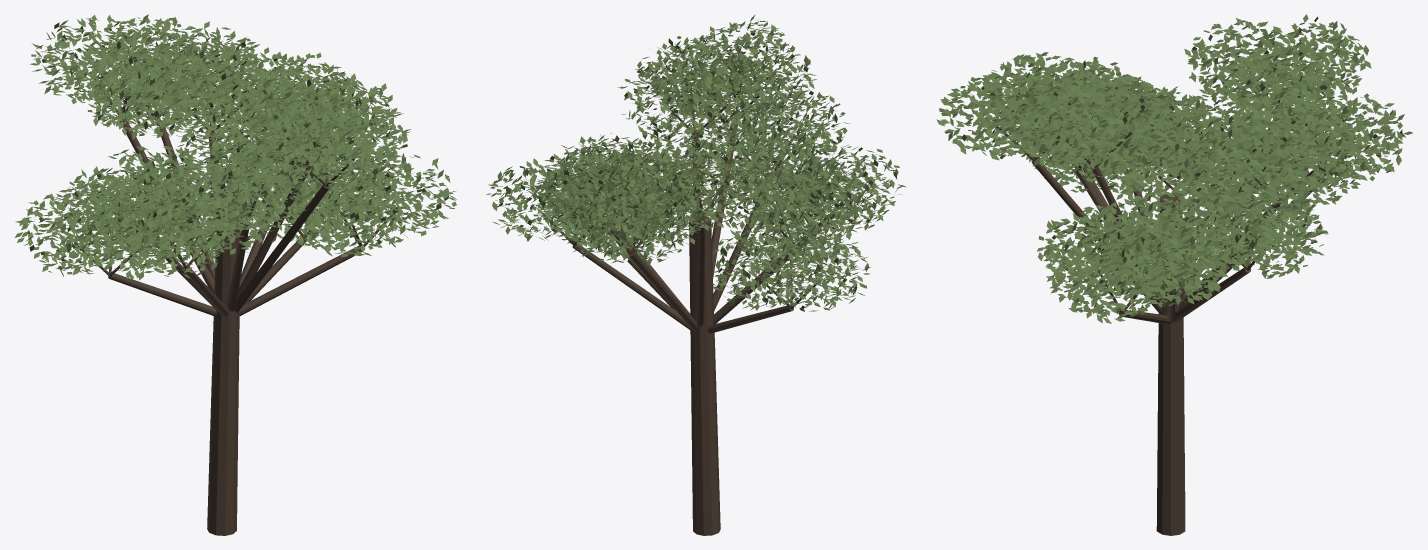
File: street-tree.glb
3 views of the same model, side by side, from view 1: azimuth 30°, elevation 25°; view 2: azimuth 150°, elevation 25°; view 3: azimuth 270°, elevation 25° (orthographic). The views are drawn at different scales.
Parts seen in each view (by area): view 1: street-tree; view 2: street-tree; view 3: street-tree.
Part boxes in pixels (<box>): street-tree: <box>14,14,456,535</box>; street-tree: <box>486,14,906,535</box>; street-tree: <box>936,14,1412,535</box>.
Bounding box in the file's own units: 5.27 × 6.28 × 5.7.
